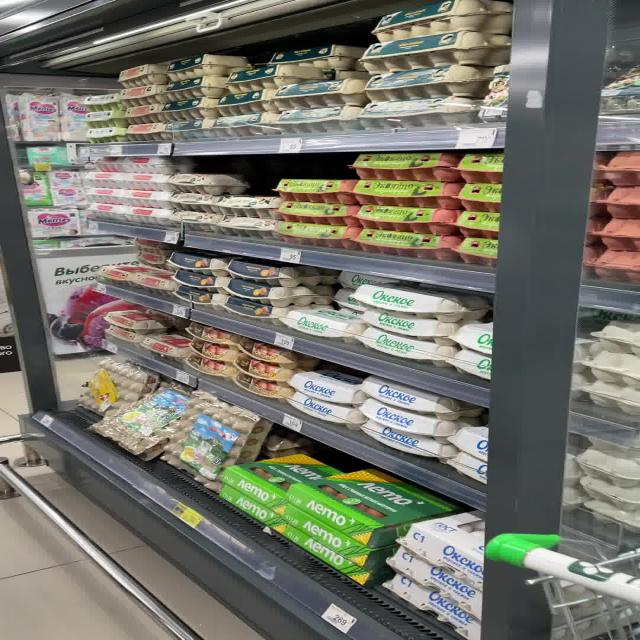egg box: (286, 462, 466, 546), (164, 390, 264, 500), (281, 499, 403, 568), (217, 454, 355, 514), (394, 508, 482, 588), (274, 517, 376, 586), (92, 390, 192, 457), (384, 544, 480, 612), (378, 570, 481, 630), (366, 32, 510, 72), (349, 281, 484, 322), (370, 1, 508, 39), (215, 481, 312, 531), (359, 374, 464, 416), (358, 393, 458, 436), (362, 69, 494, 101), (354, 223, 459, 263), (361, 98, 480, 132), (361, 415, 452, 458), (357, 324, 454, 361), (353, 202, 462, 233), (361, 304, 454, 340), (352, 177, 459, 208), (346, 151, 456, 181), (269, 44, 362, 76), (272, 75, 362, 107), (223, 273, 313, 304), (275, 106, 364, 137), (291, 387, 358, 425), (220, 292, 302, 323), (224, 258, 314, 286), (276, 219, 354, 249), (281, 308, 355, 339), (288, 368, 355, 402), (273, 198, 353, 226), (240, 335, 309, 367), (231, 366, 293, 398), (274, 178, 350, 204), (162, 53, 240, 78), (170, 172, 247, 195), (183, 349, 240, 379), (104, 306, 164, 334), (219, 213, 275, 241), (170, 190, 234, 214), (240, 353, 296, 380), (187, 317, 239, 345), (167, 264, 221, 290), (184, 333, 238, 359), (162, 77, 228, 98), (123, 203, 176, 229), (170, 282, 222, 308), (215, 116, 277, 137), (230, 66, 288, 88), (104, 323, 155, 348), (170, 208, 222, 232), (122, 155, 191, 173), (219, 195, 274, 217), (137, 266, 178, 295), (171, 250, 224, 272), (160, 98, 218, 118), (144, 329, 184, 358), (220, 91, 272, 113), (122, 186, 174, 208), (167, 118, 216, 140), (123, 172, 178, 191), (111, 65, 163, 85), (116, 103, 164, 124), (81, 186, 130, 206), (114, 85, 163, 104), (100, 264, 146, 284), (88, 200, 127, 222), (121, 124, 168, 142), (78, 111, 124, 127), (128, 248, 168, 266), (80, 127, 126, 142), (79, 93, 121, 109), (127, 235, 169, 250), (86, 169, 123, 186)
